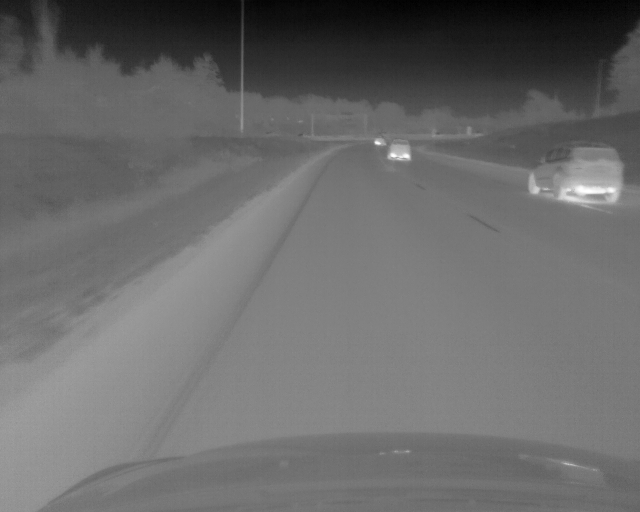car: (525, 144, 624, 204), (387, 140, 411, 160), (373, 133, 387, 146)
